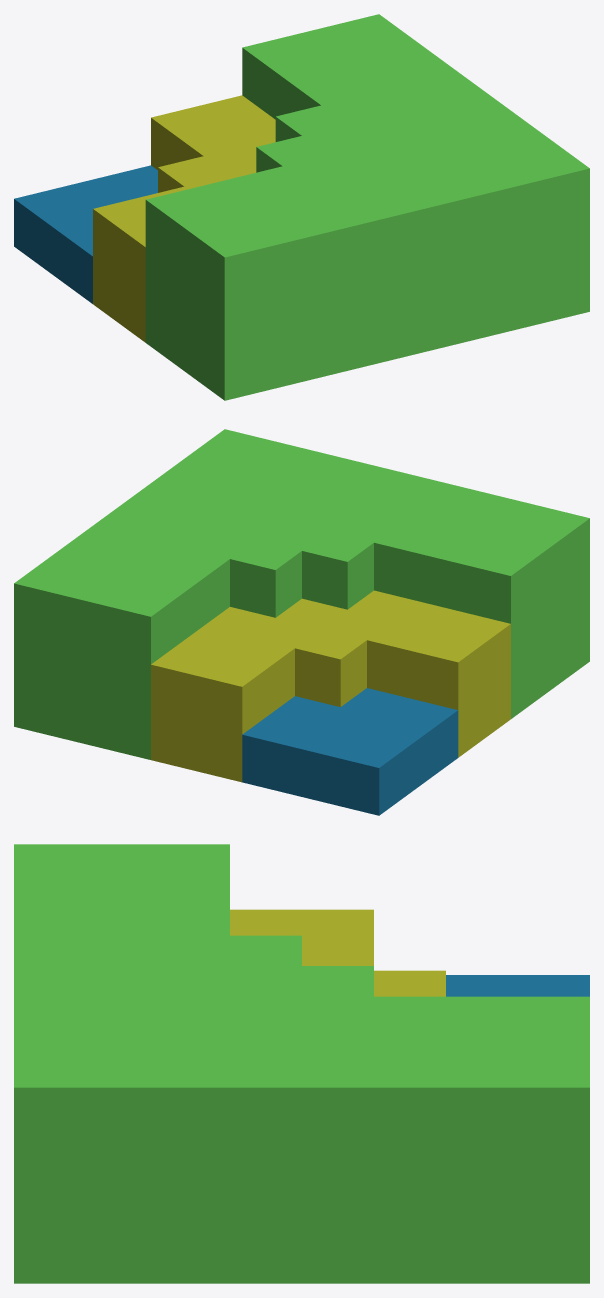
File: beach_turn.obj
The picture shows the model from 3 angles, top to bottom: view 1: azimuth 30°, elevation 25°; view 2: azimuth 150°, elevation 25°; view 3: azimuth 270°, elevation 25°; orthographic projection. The views are drawn at different scales.
Size of the model in its own units: 0.8 by 0.3 by 0.8.
1 material, 1 textured.
